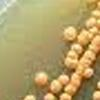orange: (80, 51, 96, 69), (33, 70, 47, 85), (65, 52, 78, 68), (49, 80, 63, 94), (63, 82, 77, 96), (66, 25, 77, 41), (69, 42, 82, 54), (72, 72, 82, 87), (82, 68, 94, 80), (75, 62, 84, 75), (58, 73, 68, 84), (91, 88, 100, 100), (23, 93, 38, 100), (42, 93, 56, 100), (59, 92, 71, 100), (95, 79, 100, 89)
